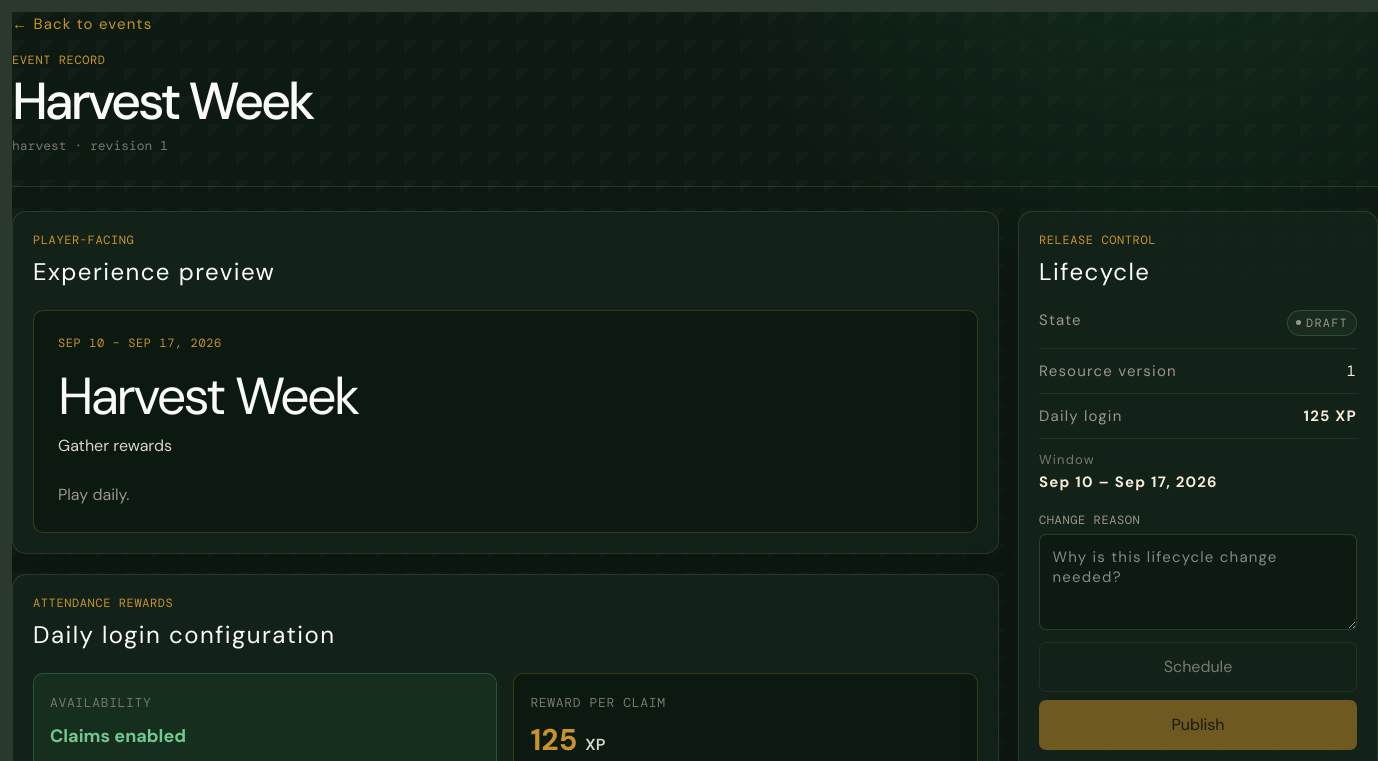
Scenario: surfaces optimistic conflicts
The width and height of the screenshot is (1378, 761).
Expected: the heading "Harvest Week" is shown, [12, 77, 312, 126]
Type "publish" into the text box labelled "Change reason" at (1198, 582), box [1039, 534, 1357, 630]
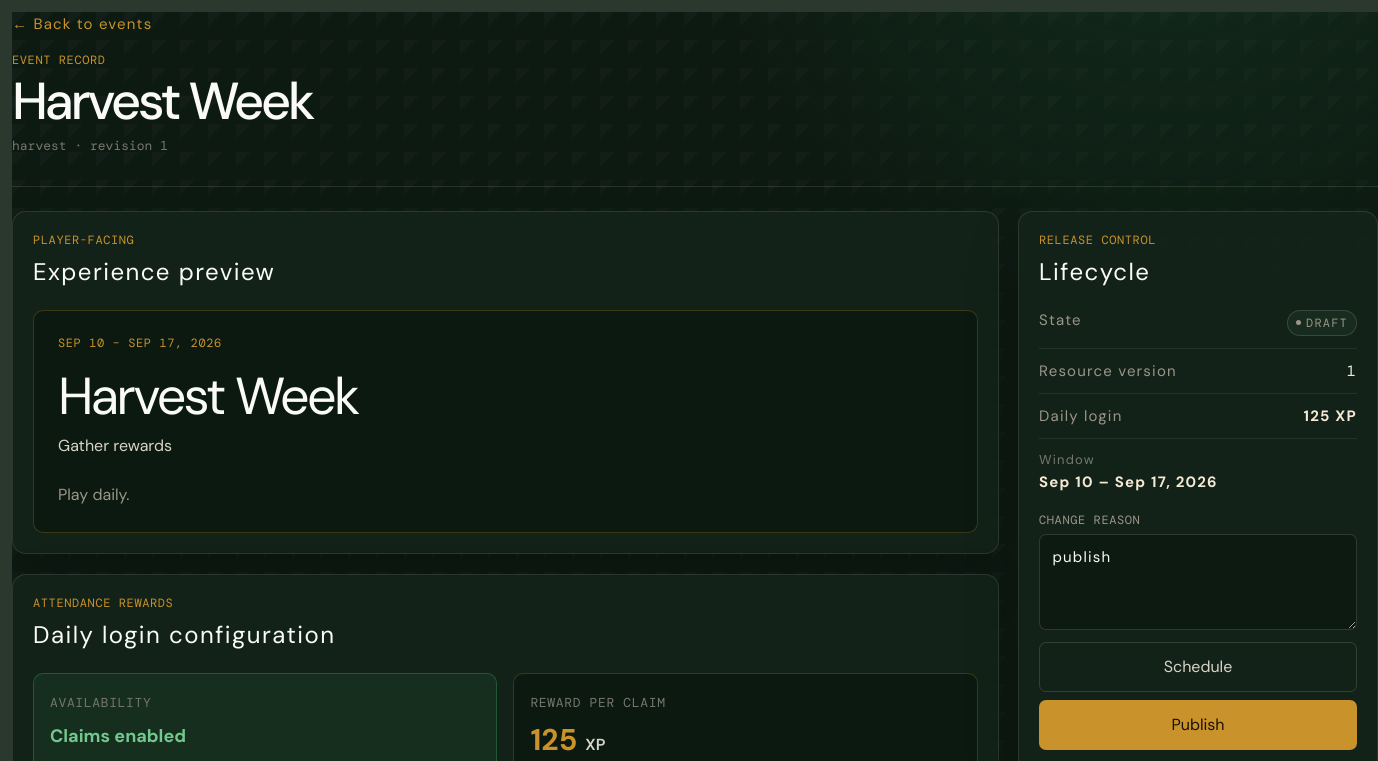
Click the button "Publish" at (1198, 725), box [1039, 700, 1357, 750]
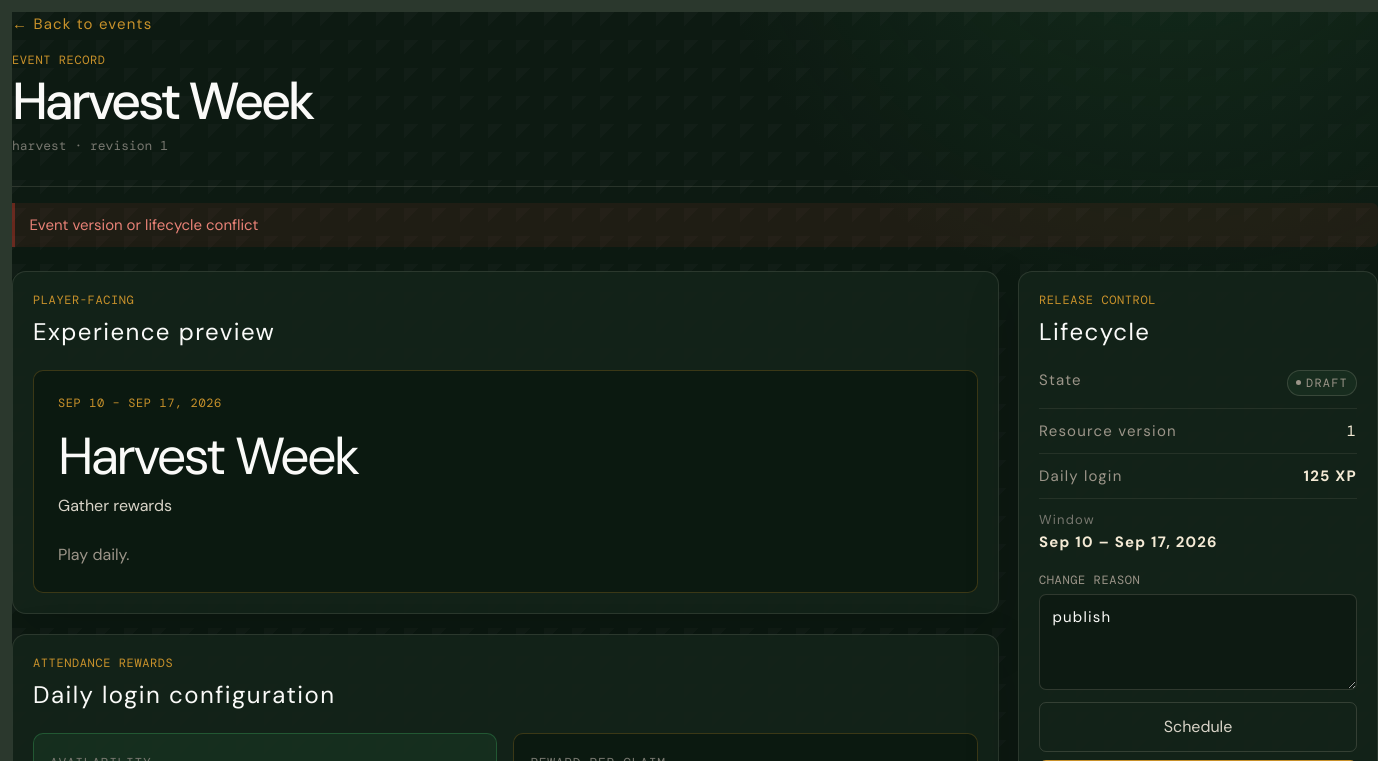
Expected: the message shows "conflict", [29, 215, 258, 235]
